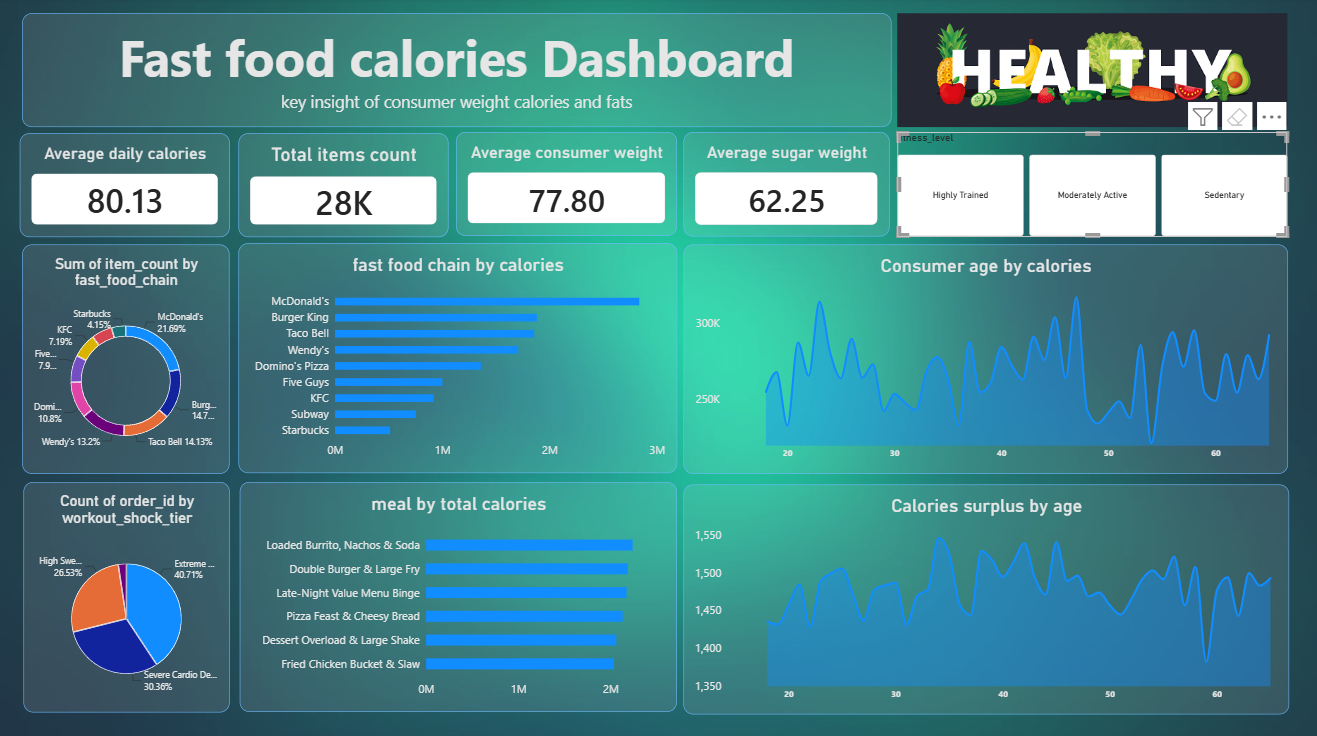

The dashboard page shown, as its layout file describes it:
{"tool":"powerbi","page":{"name":"Page 1","canvas":[1920,1080],"ordinal":0},"visuals":[{"type":"clusteredBarChart","title":"meal by total calories","fields":{"Category":["fast_food_calorie_dataset (1).meal_category"],"Y":["Sum(fast_food_calorie_dataset (1).total_calories)"]},"box":[353,703,633,333],"z":0},{"type":"stackedAreaChart","title":"Consumer age by calories","fields":{"Category":["fast_food_calorie_dataset (1).consumer_age"],"Y":["Sum(fast_food_calorie_dataset (1).total_calories)"]},"box":[996,359,875,332],"z":1000},{"type":"stackedAreaChart","title":"Calories surplus by age","fields":{"Category":["fast_food_calorie_dataset (1).consumer_age"],"Y":["fast_food_calorie_dataset (1).Avgcaloriessurplus"]},"box":[996,705,877,333],"z":2000},{"type":"donutChart","fields":{"Category":["fast_food_calorie_dataset (1).fast_food_chain"],"Y":["Sum(fast_food_calorie_dataset (1).item_count)"]},"box":[38,358,300,332],"z":3000},{"type":"pieChart","fields":{"Category":["fast_food_calorie_dataset (1).workout_shock_tier"],"Y":["CountNonNull(fast_food_calorie_dataset (1).order_id)"]},"box":[39.1,701.9,298.5,333.4],"z":4000},{"type":"textbox","box":[37.3,22.7,1258.2,164.5],"z":5000},{"type":"cardVisual","title":"Average daily calories","fields":{"Data":["Avg(fast_food_calorie_dataset (1).daily_calorie_allowance_pct)"]},"box":[34.5,196.4,304,150],"z":6000},{"type":"cardVisual","title":"Total items count","fields":{"Data":["Sum(fast_food_calorie_dataset (1).item_count)"]},"box":[351.8,196.4,304,150],"z":7000},{"type":"cardVisual","title":"Average consumer weight","fields":{"Data":["Avg(fast_food_calorie_dataset (1).consumer_weight_kg)"]},"box":[665.7,195.7,320,150],"z":8000},{"type":"cardVisual","title":"Average sugar weight","fields":{"Data":["Avg(fast_food_calorie_dataset (1).sugar_grams)"]},"box":[995.7,195.7,298.6,151.4],"z":9000},{"type":"clusteredBarChart","title":"fast food chain by calories","fields":{"Category":["fast_food_calorie_dataset (1).fast_food_chain"],"Y":["Sum(fast_food_calorie_dataset (1).total_calories)"]},"box":[351,357,635,333],"z":10000},{"type":"advancedSlicerVisual","fields":{"Values":["fast_food_calorie_dataset (1).fitness_level"]},"box":[1305,196,565,151],"z":11000},{"type":"image","box":[1305,23,565,165],"z":12000}]}

Visuals, with their boxes in screenshot pixels (x1, y1, x2, y2), scaled from the page's 1920x1080 canvas onto the 1317x736 screenshot:
"meal by total calories" clusteredBarChart: BBox(242, 479, 676, 706)
"Consumer age by calories" stackedAreaChart: BBox(683, 245, 1283, 471)
"Calories surplus by age" stackedAreaChart: BBox(683, 480, 1285, 707)
donutChart - fast_food_calorie_dataset (1).fast_food_chain x Sum(fast_food_calorie_dataset (1).item_count): BBox(26, 244, 232, 470)
pieChart - fast_food_calorie_dataset (1).workout_shock_tier x CountNonNull(fast_food_calorie_dataset (1).order_id): BBox(27, 478, 232, 706)
textbox: BBox(26, 15, 889, 128)
"Average daily calories" cardVisual: BBox(24, 134, 232, 236)
"Total items count" cardVisual: BBox(241, 134, 450, 236)
"Average consumer weight" cardVisual: BBox(457, 133, 676, 236)
"Average sugar weight" cardVisual: BBox(683, 133, 888, 237)
"fast food chain by calories" clusteredBarChart: BBox(241, 243, 676, 470)
advancedSlicerVisual - fast_food_calorie_dataset (1).fitness_level: BBox(895, 134, 1283, 236)
image: BBox(895, 16, 1283, 128)
